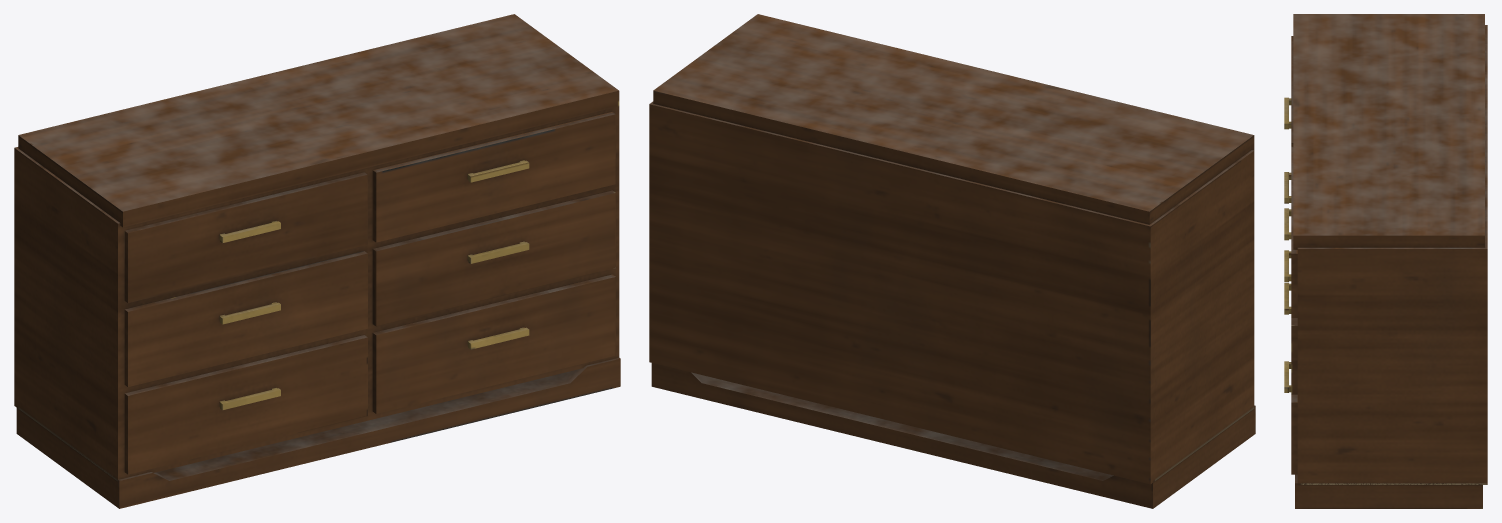
The model's file is H_Dresser.fbx.
3 views of the same model, side by side, from view 1: azimuth 30°, elevation 25°; view 2: azimuth 150°, elevation 25°; view 3: azimuth 270°, elevation 25° (orthographic). The views are drawn at different scales.
Visible parts, largest first — view 1: H_Dresser; view 2: H_Dresser; view 3: H_Dresser.
Part boxes in pixels (x1=…): H_Dresser: x1=14, y1=14, x2=620, y2=508; H_Dresser: x1=649, y1=14, x2=1255, y2=508; H_Dresser: x1=1284, y1=14, x2=1487, y2=508.
Size of the model in its own units: 600 by 340 by 230.
Materials: 1 (1 with a texture image).
